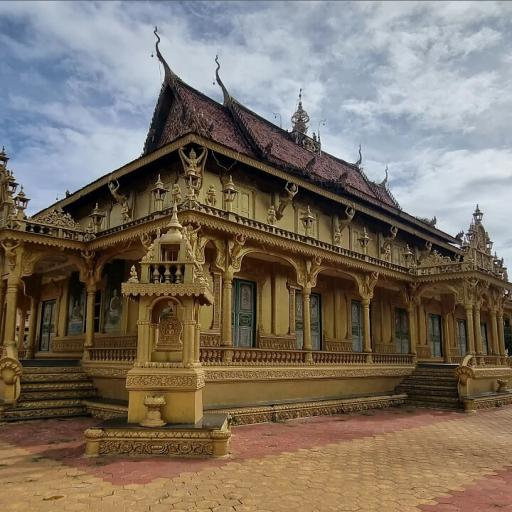lua: (151, 24, 182, 87), (209, 51, 233, 109), (374, 159, 394, 192), (350, 139, 368, 174)
ran: (262, 134, 278, 159), (335, 166, 354, 186), (304, 153, 320, 176), (204, 118, 220, 137), (451, 227, 466, 244), (428, 214, 438, 232)
than: (176, 141, 209, 190), (267, 173, 300, 221), (178, 223, 208, 262), (104, 176, 134, 209), (0, 238, 26, 276), (336, 200, 360, 240), (226, 231, 251, 268), (301, 252, 327, 285), (374, 218, 397, 254), (76, 246, 99, 280), (135, 228, 156, 265), (360, 269, 386, 296), (417, 238, 435, 272), (475, 278, 493, 306), (405, 278, 422, 302), (464, 274, 476, 305), (494, 284, 506, 312), (164, 322, 178, 344), (452, 250, 463, 267)
